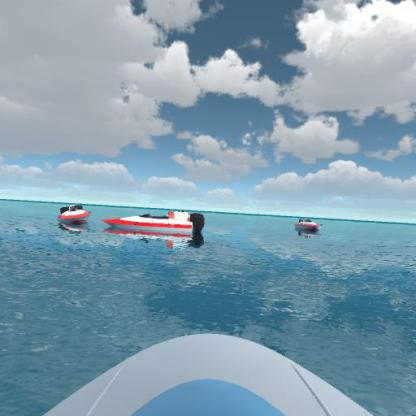usv3: (102, 203, 206, 249), (55, 199, 95, 228), (288, 213, 322, 238)
